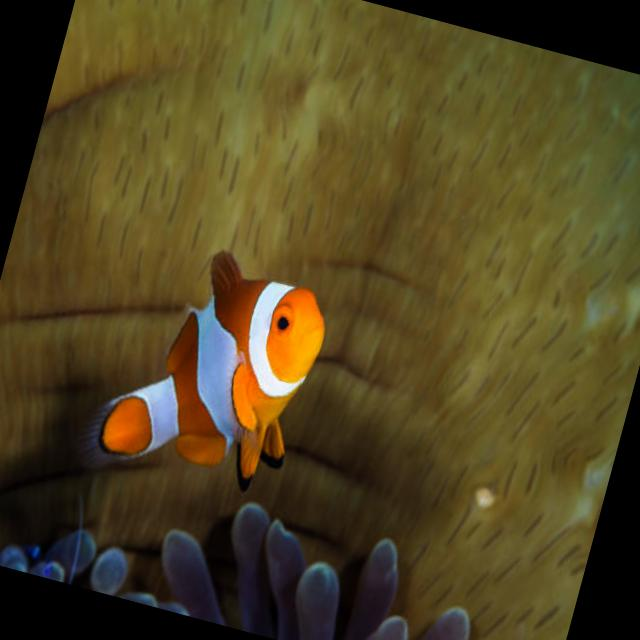ClownFish: (90, 229, 338, 503)
